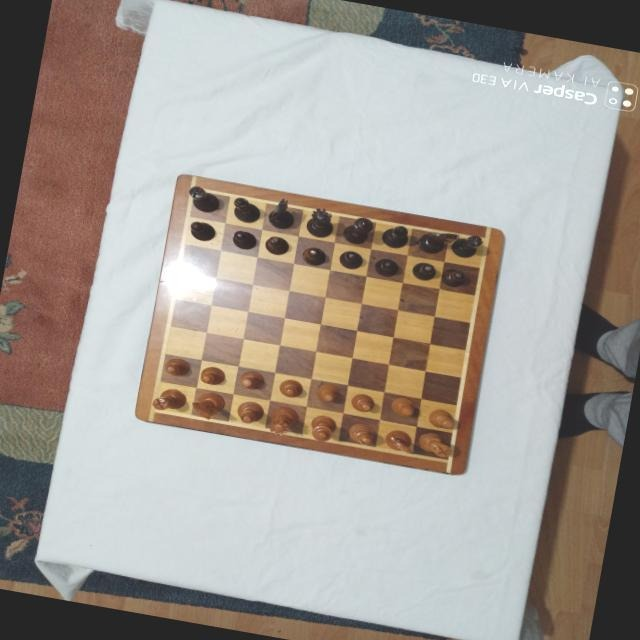black-bishop: (229, 194, 263, 223), (379, 221, 411, 249)
black-knight: (416, 226, 460, 257), (265, 195, 298, 229)
black-pawn: (187, 218, 216, 242), (300, 244, 328, 267), (230, 227, 258, 249), (372, 255, 400, 277), (262, 233, 289, 255), (336, 248, 363, 270), (410, 259, 436, 281), (440, 265, 466, 287)
black-queen: (303, 205, 336, 239), (341, 212, 375, 245)
black-rook: (185, 183, 223, 213), (449, 230, 483, 259)
white-bishop: (234, 398, 266, 426), (348, 420, 376, 445)
white-king: (307, 413, 337, 443)
white-knight: (190, 387, 226, 420), (382, 426, 418, 454)
white-pawn: (388, 393, 416, 417), (162, 354, 191, 377), (314, 380, 341, 404), (237, 368, 265, 391), (427, 407, 456, 429), (198, 364, 226, 386), (276, 377, 303, 399), (349, 391, 375, 413)
white-queen: (266, 402, 301, 437)
white-rook: (150, 384, 188, 414), (414, 429, 453, 458)
